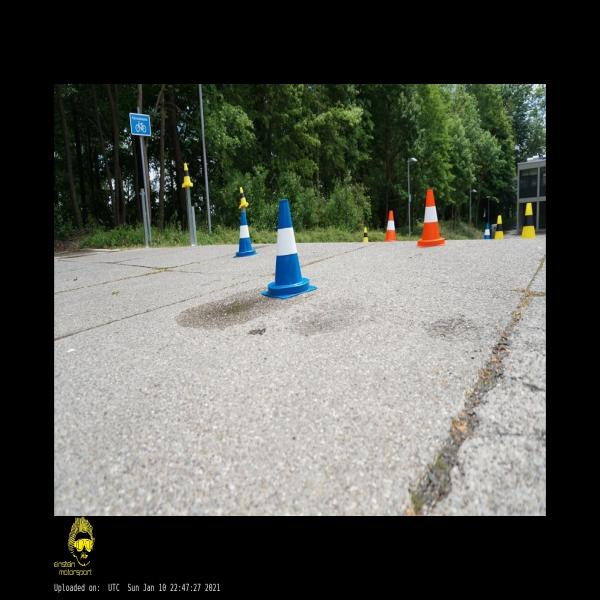blue_cone: (262, 199, 318, 299), (233, 212, 258, 258), (484, 222, 490, 240)
orange_cone: (417, 190, 445, 246), (382, 210, 396, 242)
yellow_cone: (521, 203, 535, 238), (182, 163, 193, 188), (238, 186, 249, 208), (494, 215, 503, 239), (363, 227, 368, 242)
